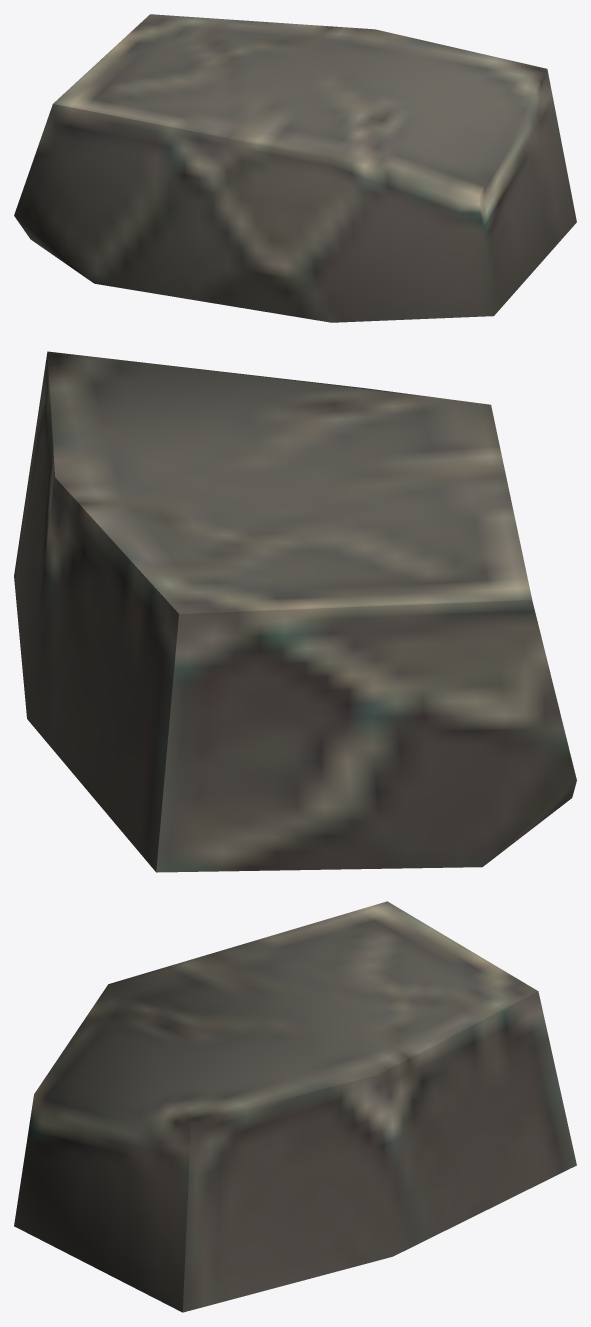
The model's file is xiaowujian01.FBX.
The picture shows the model from 3 angles, top to bottom: view 1: azimuth 30°, elevation 25°; view 2: azimuth 150°, elevation 25°; view 3: azimuth 270°, elevation 25°; orthographic projection. The views are drawn at different scales.
Visible parts, largest first — view 1: Box011; view 2: Box011; view 3: Box011.
Boxes of the visible parts, left/top/right/bottom form: Box011: left=14, top=14, right=576, bottom=322; Box011: left=14, top=351, right=576, bottom=872; Box011: left=14, top=901, right=576, bottom=1312.
Bounding box in the file's own units: 49.39 × 15.87 × 46.16.
